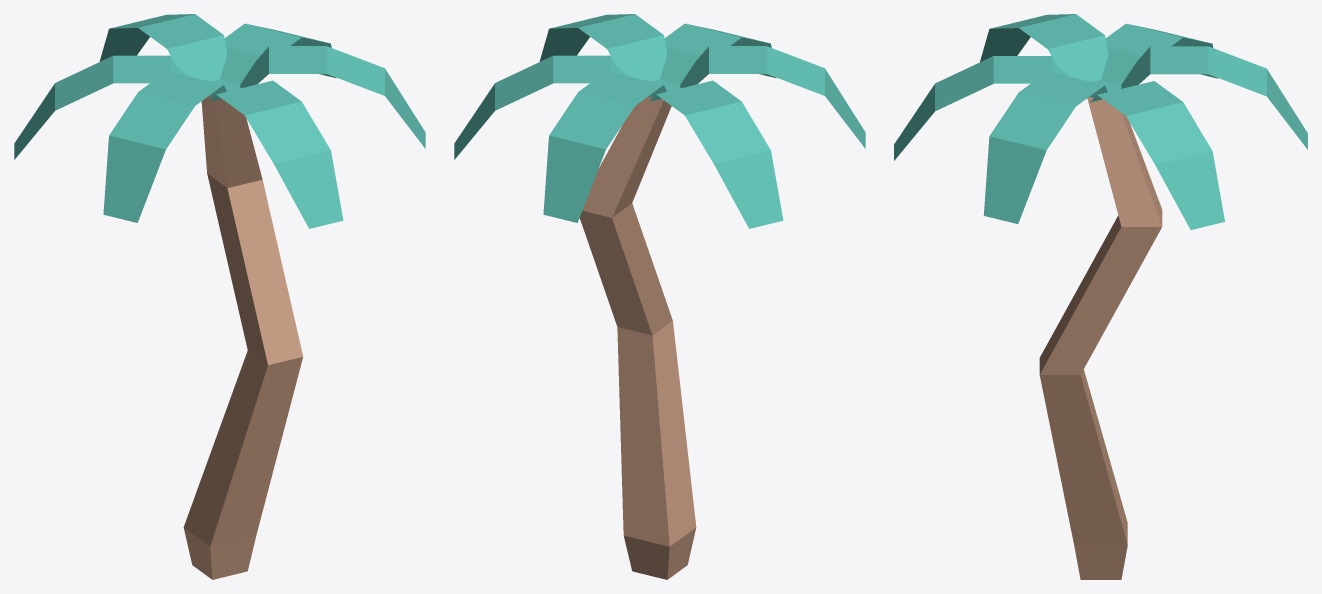
File: palm_bend.glb
3 renders of one model, left to right at view 1: azimuth 30°, elevation 25°; view 2: azimuth 150°, elevation 25°; view 3: azimuth 270°, elevation 25°, orthographic.
Visible parts, largest first — view 1: palm_bend; view 2: palm_bend; view 3: palm_bend.
Boxes of the visible parts, bbox=[...] form: palm_bend: bbox=[14, 14, 425, 579]; palm_bend: bbox=[454, 14, 865, 579]; palm_bend: bbox=[894, 14, 1307, 579].
Bounding box in the file's own units: 0.9355 × 1.38 × 1.01.
